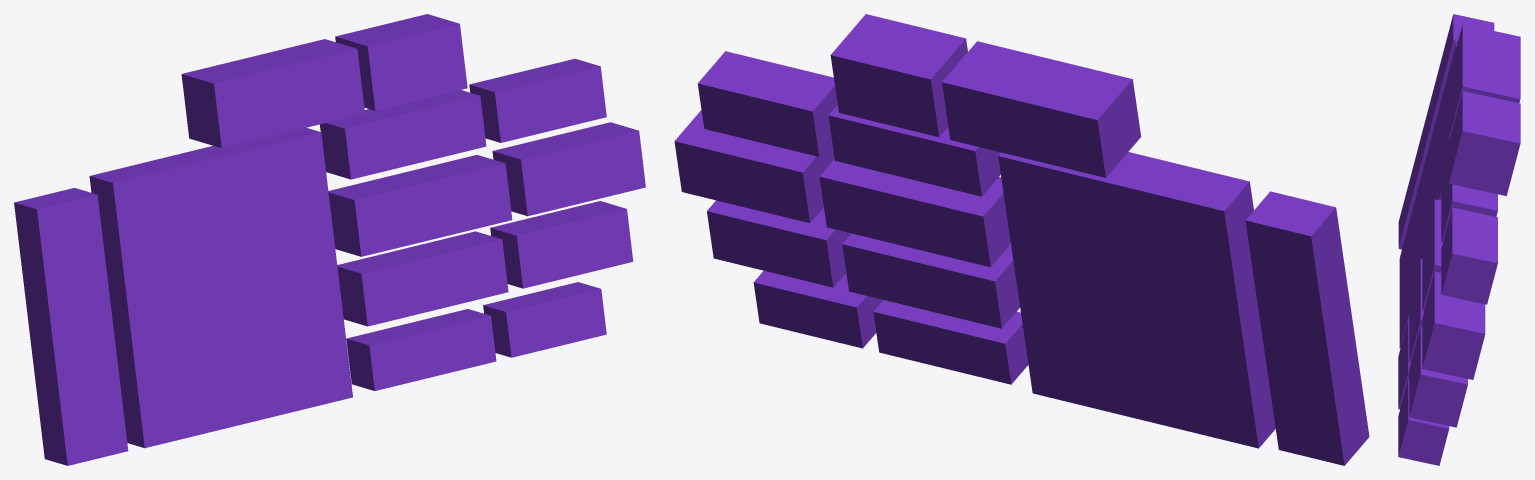
File: hand3(3).fbx
The picture shows the model from 3 angles, left to right: view 1: azimuth 30°, elevation 25°; view 2: azimuth 150°, elevation 25°; view 3: azimuth 270°, elevation 25°; orthographic projection. The views are drawn at different scales.
Visible parts, largest first — view 1: Cube.008, Cube.009, Cube.011, Cube, Cube.003, Cube.007, Cube.001, Cube.010, Cube.002, Cube.004, Cube.006, Cube.005; view 2: Cube.008, Cube.009, Cube.011, Cube, Cube.010, Cube.006, Cube.003, Cube.001, Cube.004, Cube.007, Cube.002, Cube.005; view 3: Cube.010, Cube.011, Cube.001, Cube.006, Cube.008, Cube.002, Cube.009, Cube.005, Cube.007, Cube, Cube.003, Cube.004.
Part boxes in pixels (left/top/right/bottom): Cube.008: left=89, top=127, right=352, bottom=448; Cube.009: left=14, top=188, right=128, bottom=465; Cube.011: left=181, top=39, right=364, bottom=148; Cube: left=328, top=155, right=512, bottom=256; Cube.003: left=337, top=231, right=508, bottom=326; Cube.007: left=320, top=90, right=486, bottom=179; Cube.001: left=492, top=122, right=645, bottom=216; Cube.010: left=335, top=14, right=467, bottom=110; Cube.002: left=490, top=201, right=633, bottom=288; Cube.004: left=346, top=309, right=496, bottom=390; Cube.006: left=469, top=58, right=606, bottom=142; Cube.005: left=483, top=282, right=606, bottom=357; Cube.008: left=998, top=152, right=1275, bottom=448; Cube.009: left=1245, top=191, right=1369, bottom=465; Cube.011: left=942, top=41, right=1141, bottom=177; Cube: left=819, top=159, right=1010, bottom=267; Cube.010: left=830, top=14, right=967, bottom=136; Cube.006: left=697, top=51, right=837, bottom=156; Cube.003: left=842, top=233, right=1019, bottom=328; Cube.001: left=674, top=110, right=834, bottom=222; Cube.004: left=873, top=300, right=1028, bottom=384; Cube.007: left=828, top=105, right=1000, bottom=196; Cube.002: left=707, top=200, right=850, bottom=287; Cube.005: left=753, top=271, right=882, bottom=348; Cube.010: left=1448, top=91, right=1520, bottom=195; Cube.011: left=1448, top=24, right=1520, bottom=139; Cube.001: left=1422, top=271, right=1485, bottom=379; Cube.006: left=1441, top=207, right=1497, bottom=304; Cube.008: left=1399, top=42, right=1457, bottom=348; Cube.002: left=1409, top=326, right=1467, bottom=427; Cube.009: left=1398, top=14, right=1494, bottom=249; Cube.005: left=1398, top=378, right=1449, bottom=465; Cube.007: left=1441, top=157, right=1497, bottom=242; Cube: left=1422, top=199, right=1442, bottom=311; Cube.003: left=1409, top=259, right=1423, bottom=363; Cube.004: left=1398, top=319, right=1410, bottom=409.
Size of the model in its own units: 430 by 224 by 86.08.
